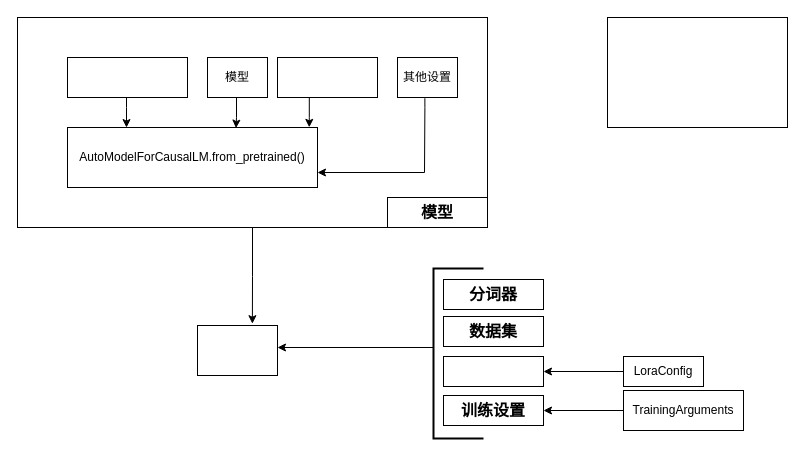
Image size: 805x457. Some labels were removed from this diagram. The centre of each missing label's shape, as x and y in pixels:
peft设置: (x=493, y=371)
微调原理: (x=697, y=72)
训练器： SFTTrainer: (x=237, y=350)
设备映射： device_map: (x=327, y=77)
量化设置： BitsAndBytesConfig: (x=127, y=77)
